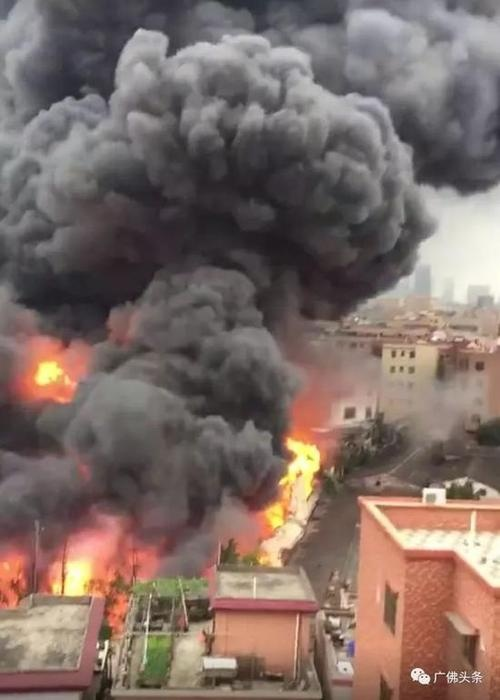fire: (254, 437, 323, 570), (32, 358, 80, 394), (49, 559, 94, 596), (1, 548, 28, 608)
